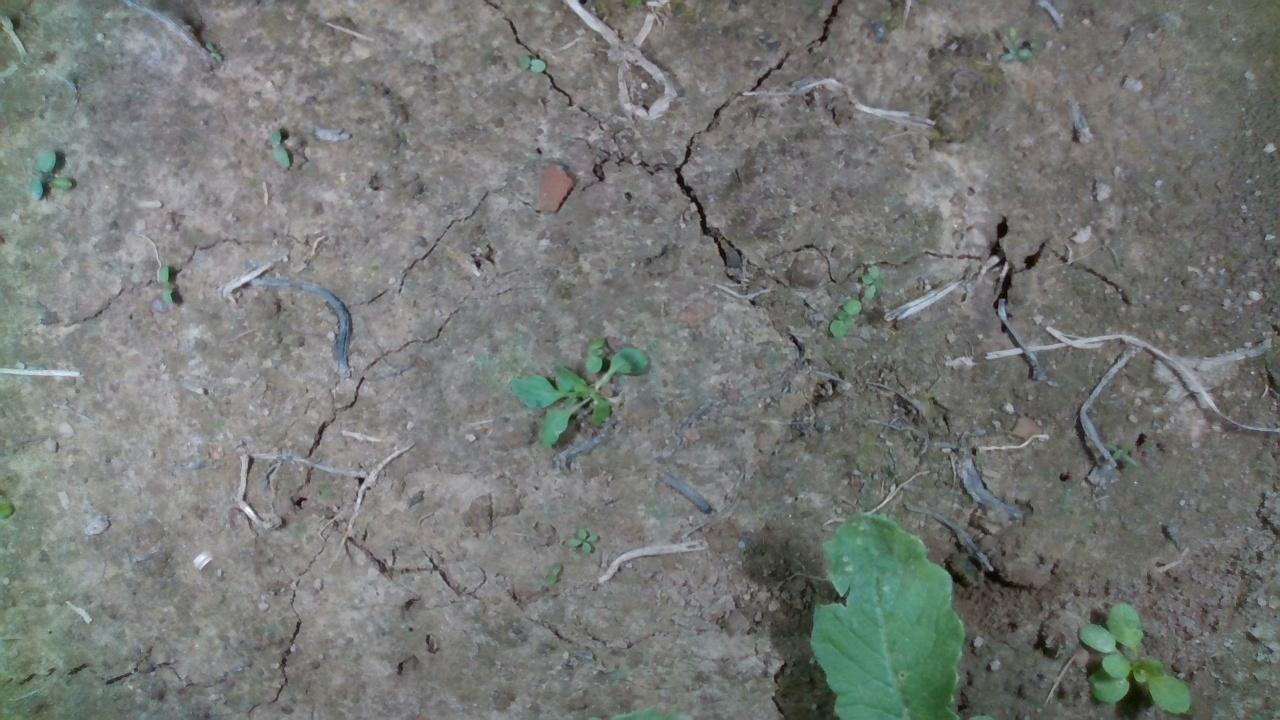weed: (856, 260, 880, 298)
